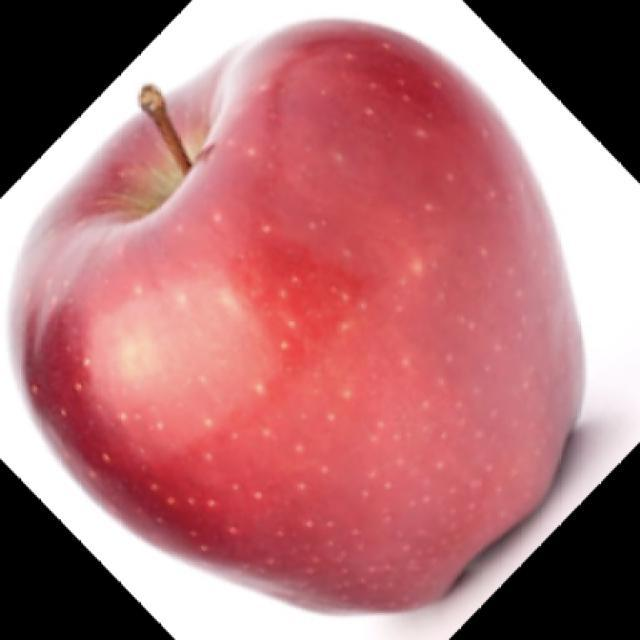Fresh Apple: (45, 36, 603, 616)
